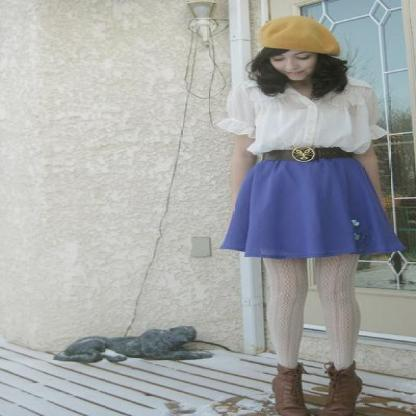hat: (243, 17, 336, 58)
shirt: (218, 82, 374, 154)
shoe: (262, 360, 361, 416)
skirt: (221, 158, 404, 264)
